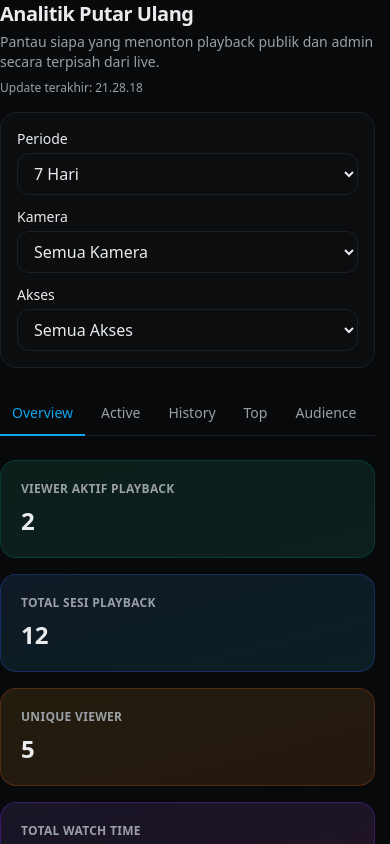
PlaybackAnalytics › tetap menampilkan playback history page 2 setelah pagination diklik
The image size is (390, 844).
Expected: the heading "Analitik Putar Ulang" is shown, [0,0,194,27]
What coordinates should you click on to do the following:
click the tab "History"
I would click on:
 (192, 414)
Its box is [156,392,228,436].
(page scrolled)
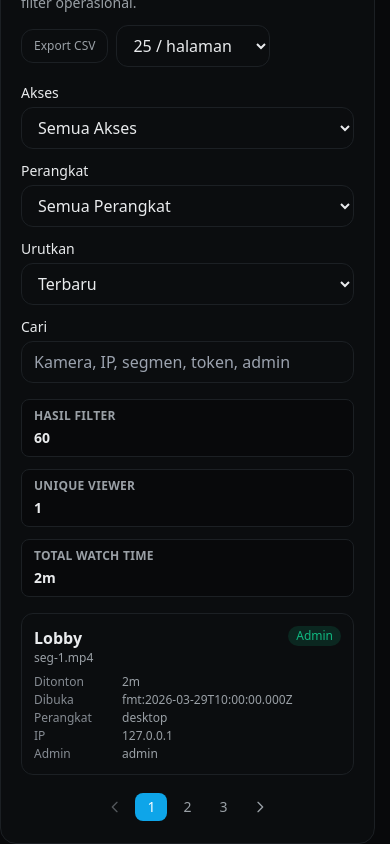
What coordinates should you click on to do the following:
click the button "2"
I would click on:
 (188, 807)
Its box is [172,793,204,821].
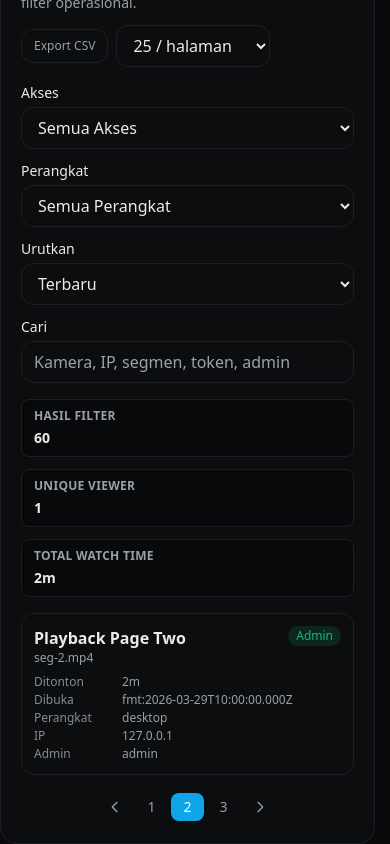
Expected: the text "seg-2.mp4" is shown, [34,649,93,666]
